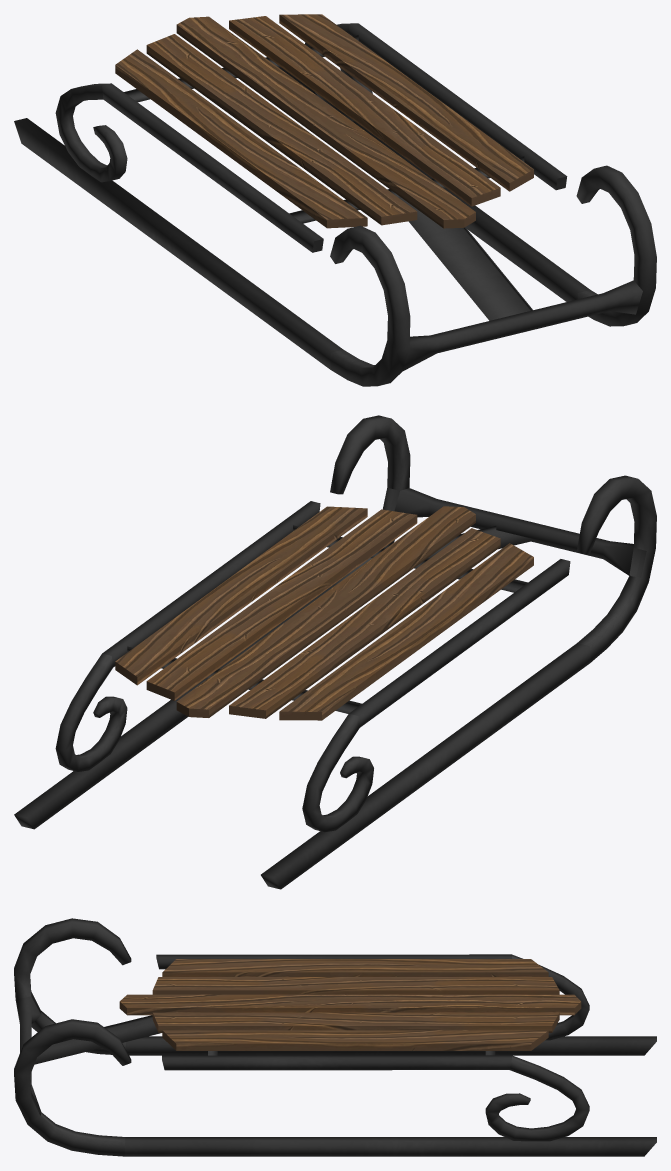
Rendered from Trineo.FBX.
The picture shows the model from 3 angles, top to bottom: view 1: azimuth 30°, elevation 25°; view 2: azimuth 150°, elevation 25°; view 3: azimuth 270°, elevation 25°; orthographic projection. The views are drawn at different scales.
Parts seen in each view (by area): view 1: sleigh; view 2: sleigh; view 3: sleigh.
Part boxes in pixels (x1,y1,x2,y2): sleigh: (14, 14, 656, 386); sleigh: (14, 415, 656, 889); sleigh: (14, 918, 656, 1156).
Size of the model in its own units: 57.17 by 33.18 by 146.
